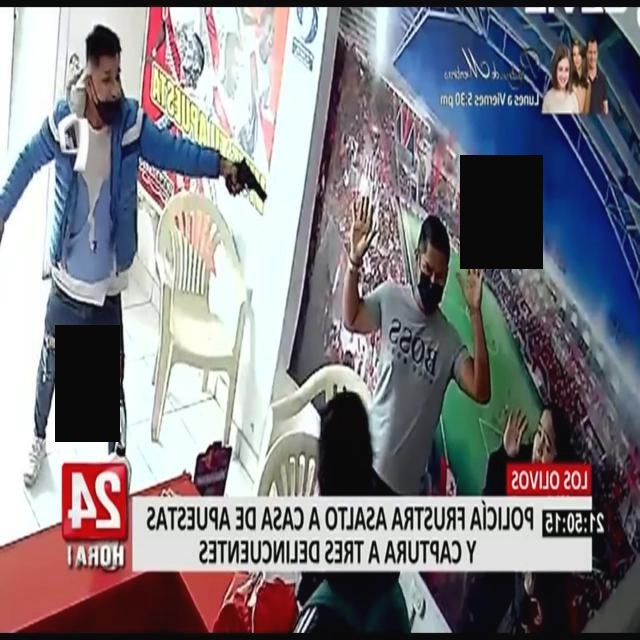gun: (219, 138, 275, 218)
